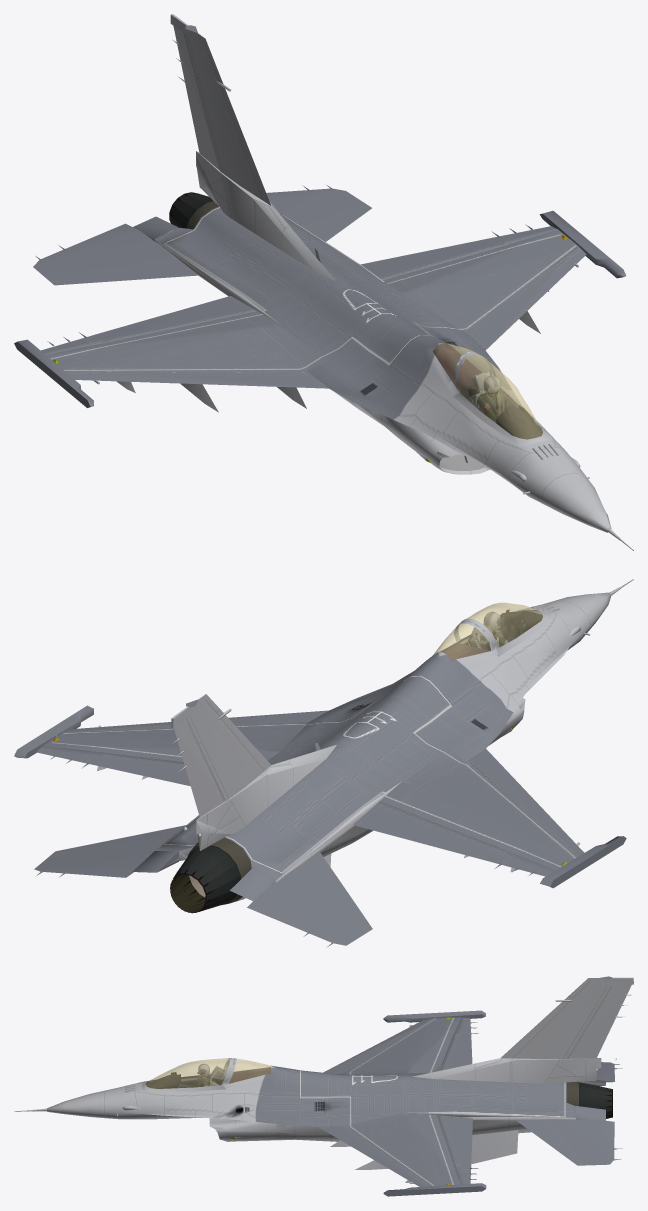
File: f16-exterior-original.glb
3 views of the same model, one above another, from view 1: azimuth 30°, elevation 25°; view 2: azimuth 150°, elevation 25°; view 3: azimuth 270°, elevation 25° (orthographic). The views are drawn at different scales.
Parts seen in each view (by area): view 1: RadarDomeTop (×2), RightUpperHorizonTail, Tail, USAF_Tailroot, CanopyForwardOutside, LeftUpperHorizonTail, RightUpperLef, WingTips, LeftUpperLef, RightUpperFlap, LeftUpperFlap, Rudder.003 (+3 smaller); view 2: RadarDomeTop, RightUpperHorizonTail, Tail, USAF_Tailroot, LeftUpperHorizonTail, RightUpperFlap, WingTips, RightUpperLef, CanopyForwardOutside, LeftUpperFlap, Rudder.003, LeftUpperLef (+8 smaller); view 3: RadarDomeTop (×2), Tail, USAF_Tailroot, LeftUpperHorizonTail, CanopyForwardOutside, WingTips, LeftUpperFlap, LeftUpperLef, VentralFins, Rudder.003, RightUpperLef, RightUpperFlap (+5 smaller).
Boxes of the visible parts, bbox=[...] form: RadarDomeTop (×2): bbox=[46, 206, 611, 532]; RightUpperHorizonTail: bbox=[33, 223, 198, 285]; Tail: bbox=[170, 14, 270, 205]; USAF_Tailroot: bbox=[196, 151, 336, 281]; CanopyForwardOutside: bbox=[458, 354, 542, 439]; LeftUpperHorizonTail: bbox=[266, 188, 371, 241]; RightUpperLef: bbox=[65, 371, 328, 388]; WingTips: bbox=[14, 210, 626, 407]; LeftUpperLef: bbox=[468, 246, 586, 350]; RightUpperFlap: bbox=[92, 296, 256, 342]; LeftUpperFlap: bbox=[360, 237, 506, 280]; Rudder.003: bbox=[173, 26, 219, 170]; RadarDomeTop: bbox=[43, 592, 611, 900]; RightUpperHorizonTail: bbox=[247, 852, 372, 945]; Tail: bbox=[171, 694, 271, 800]; USAF_Tailroot: bbox=[196, 745, 336, 850]; LeftUpperHorizonTail: bbox=[34, 825, 185, 877]; RightUpperFlap: bbox=[353, 801, 507, 862]; WingTips: bbox=[14, 705, 626, 888]; RightUpperLef: bbox=[468, 748, 584, 857]; CanopyForwardOutside: bbox=[459, 602, 542, 647]; LeftUpperFlap: bbox=[94, 753, 190, 786]; Rudder.003: bbox=[174, 728, 225, 817]; LeftUpperLef: bbox=[64, 710, 328, 732]; RadarDomeTop (×2): bbox=[47, 1017, 575, 1185]; Tail: bbox=[501, 977, 633, 1058]; USAF_Tailroot: bbox=[413, 1058, 601, 1084]; LeftUpperHorizonTail: bbox=[516, 1119, 614, 1165]; CanopyForwardOutside: bbox=[145, 1058, 229, 1088]; WingTips: bbox=[383, 1010, 486, 1196]; LeftUpperFlap: bbox=[437, 1115, 472, 1166]; LeftUpperLef: bbox=[318, 1125, 431, 1186]; VentralFins: bbox=[471, 1130, 518, 1163]; Rudder.003: bbox=[566, 985, 631, 1058]; RightUpperLef: bbox=[323, 1018, 433, 1073]; RightUpperFlap: bbox=[440, 1034, 472, 1070].
Size of what is drawn, in the model's own units: 1.28 by 0.5933 by 1.91.
Materials: 53 (43 with a texture image).
